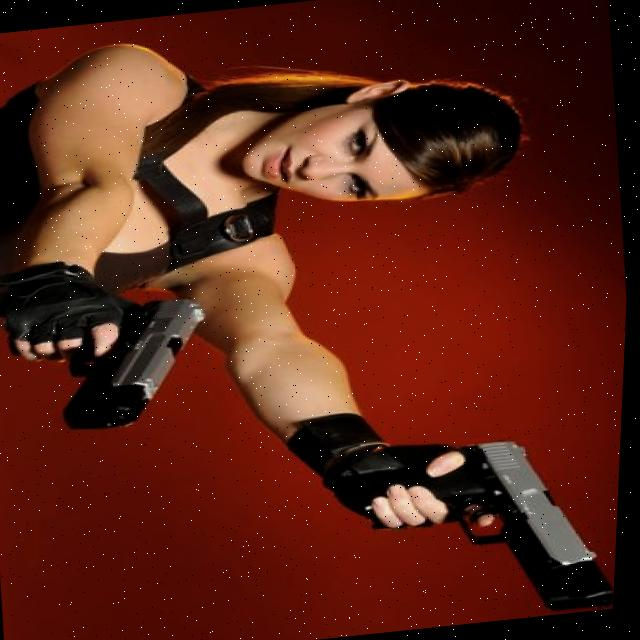pistol: (432, 428, 625, 622), (58, 296, 220, 430)
